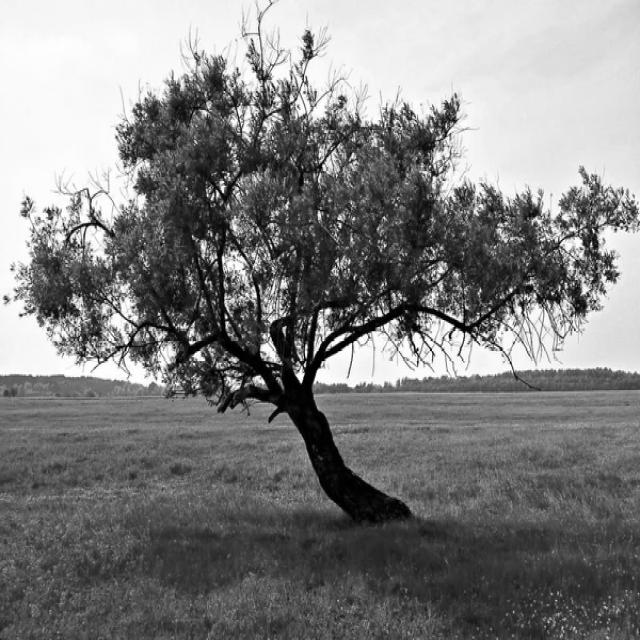Tree: (14, 7, 640, 524)
